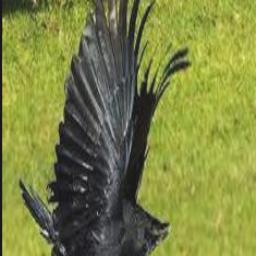Crow: (19, 0, 192, 256)
